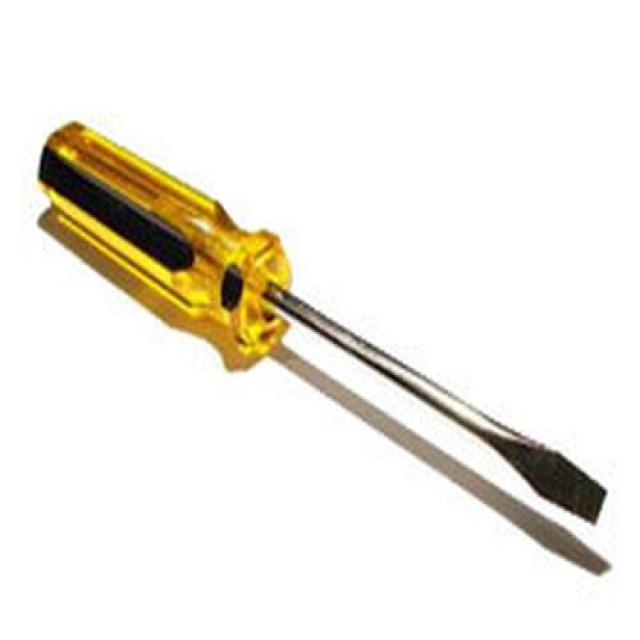screw driver: (28, 79, 615, 588)
